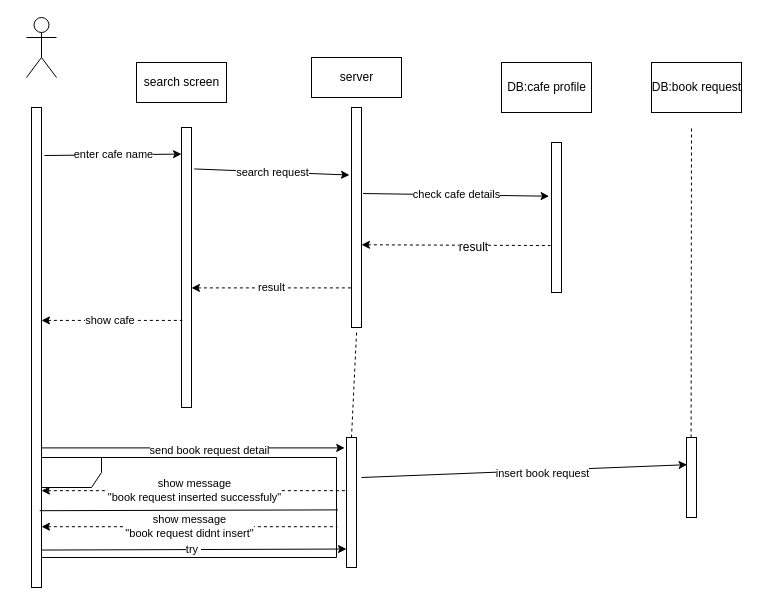
This 759x605 diagram has some shape labels left out. The centre of each missing label's shape, as x and y in pixels:
"customer" belongs at pixel 41 47.
"if*" belongs at pixel 188 507.
